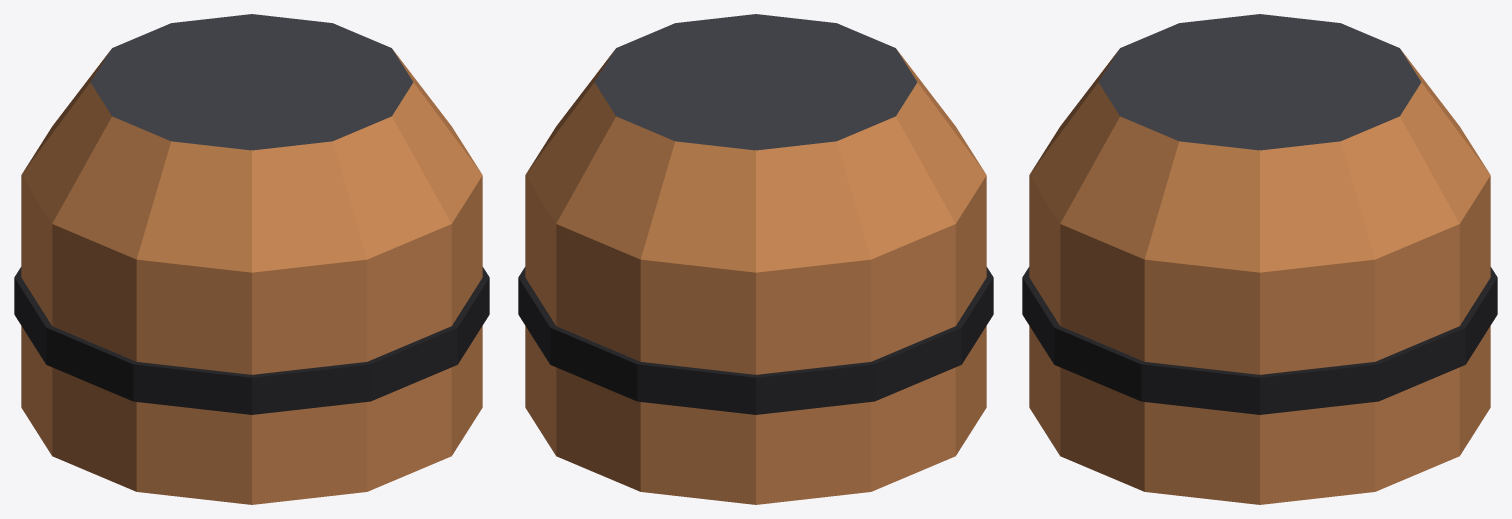
File: Rec_Parachute_M.fbx
3 renders of one model, left to right at view 1: azimuth 30°, elevation 25°; view 2: azimuth 150°, elevation 25°; view 3: azimuth 270°, elevation 25°, orthographic.
Parts seen in each view (by area): view 1: Rec_Parachute_M; view 2: Rec_Parachute_M; view 3: Rec_Parachute_M.
Part boxes in pixels (x1,y1,x2,y2): Rec_Parachute_M: [14, 14, 489, 504]; Rec_Parachute_M: [518, 14, 993, 504]; Rec_Parachute_M: [1022, 14, 1497, 504].
Size of the model in its own units: 0.927 by 0.7 by 0.927.
1 material, 1 textured.
